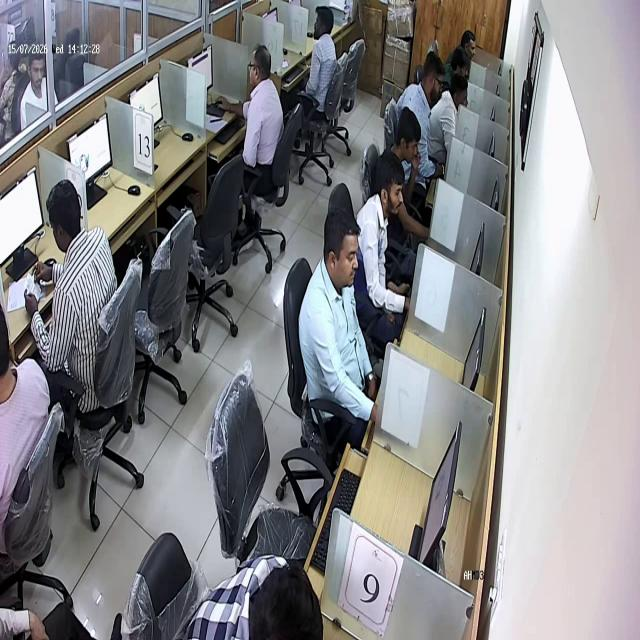paper-chit: (23, 276, 46, 303)
